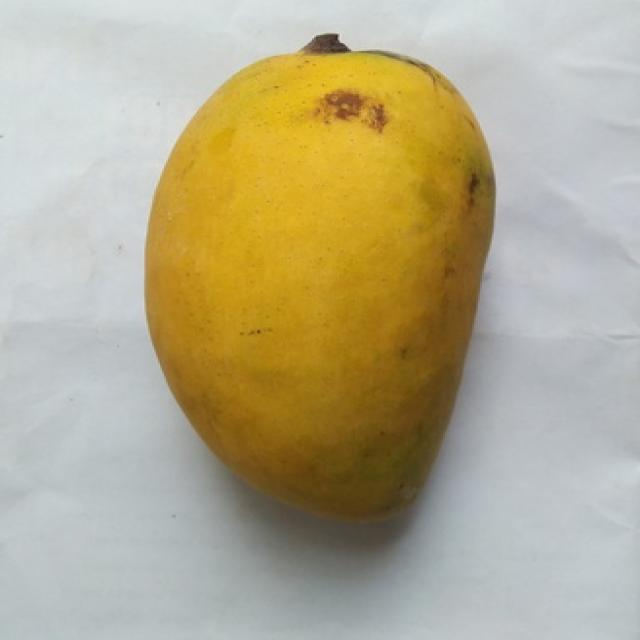Mango: (144, 35, 492, 516)
